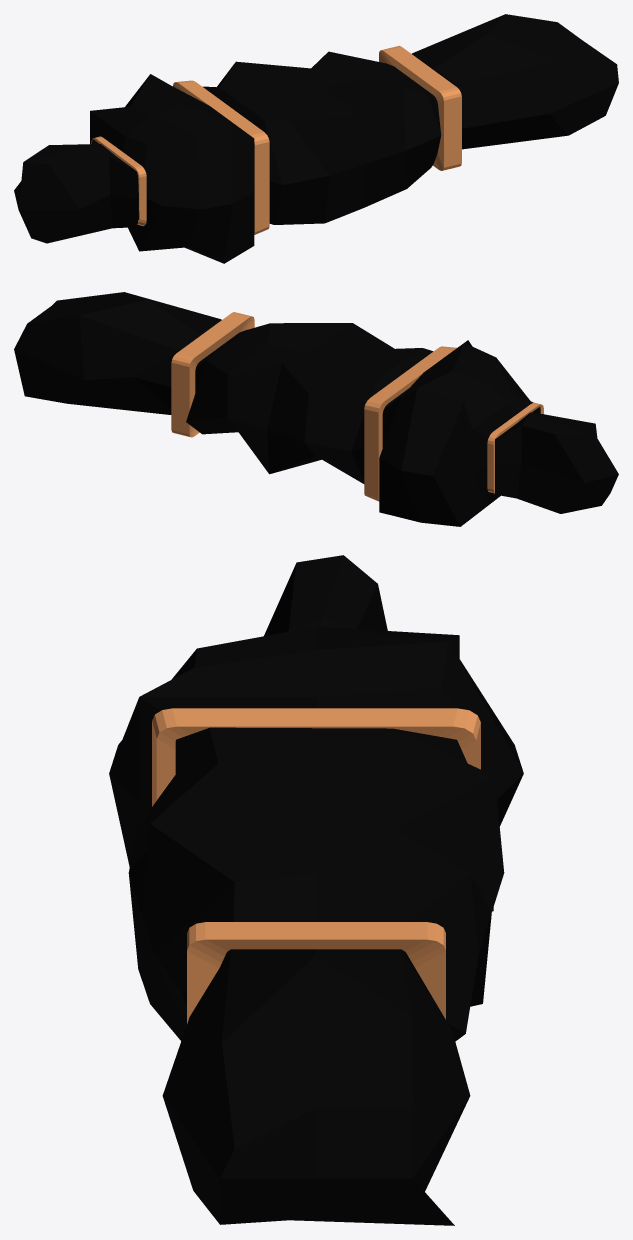
File: Corpse3.fbx
The picture shows the model from 3 angles, top to bottom: view 1: azimuth 30°, elevation 25°; view 2: azimuth 150°, elevation 25°; view 3: azimuth 270°, elevation 25°; orthographic projection. The views are drawn at different scales.
Parts seen in each view (by area): view 1: Cube.001; view 2: Cube.001; view 3: Cube.001.
Boxes of the visible parts, x1,y1,x2,y2 form: Cube.001: (14,14,618,263); Cube.001: (14,292,618,526); Cube.001: (109,555,523,1225).
Bounding box in the file's own units: 1597 × 356 × 490.
